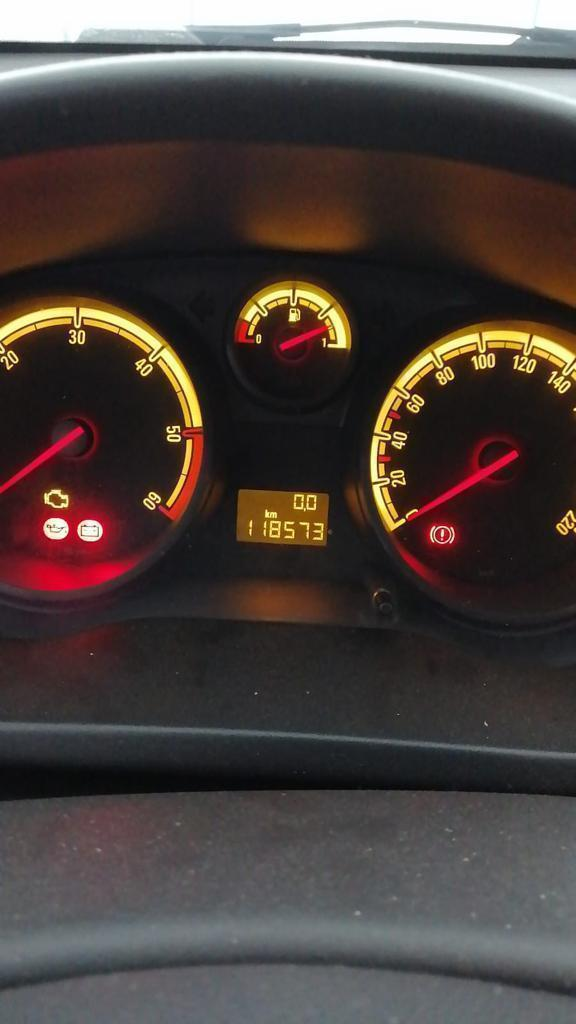,: (302, 507, 306, 511)
0: (305, 494, 317, 511), (292, 493, 304, 510)
1: (247, 518, 253, 536), (261, 519, 267, 537)
3: (311, 521, 325, 541)
5: (283, 519, 296, 539)
7: (298, 520, 310, 540)
8: (268, 519, 281, 538)
X: (263, 508, 269, 518), (269, 511, 277, 518)
odometer: (232, 484, 332, 549)
